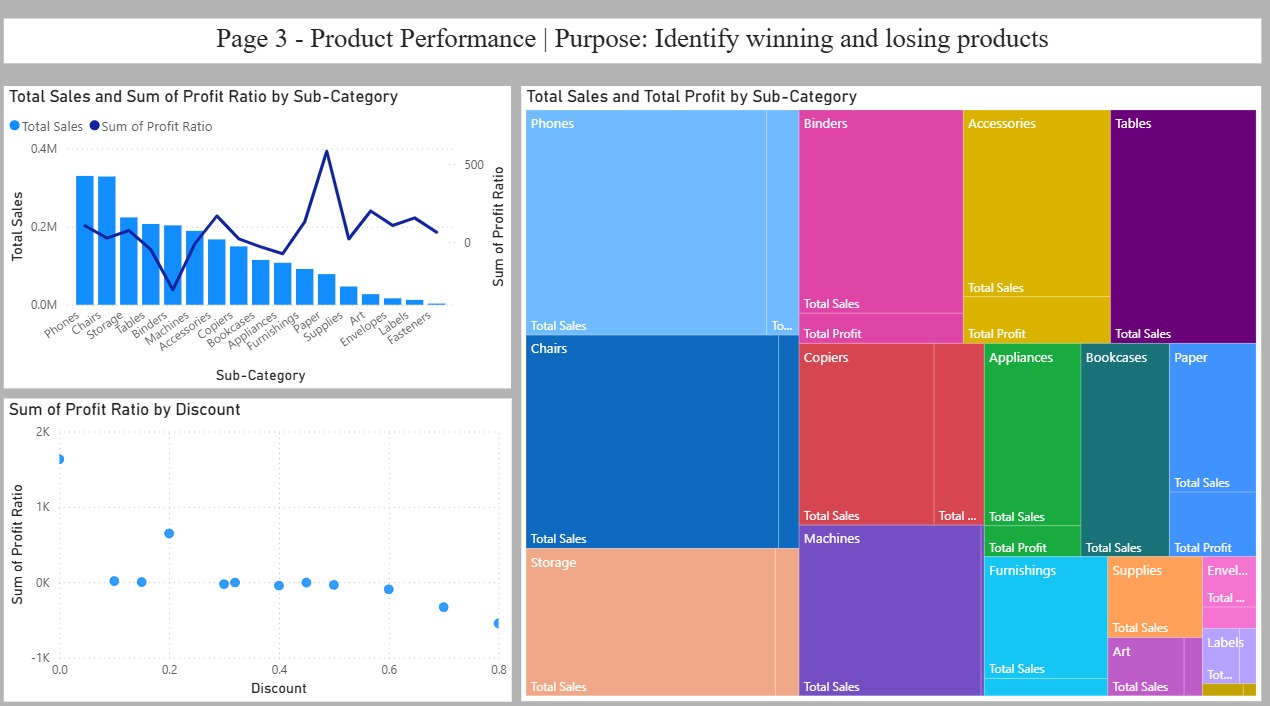

Layout of this report page (visuals, bound fields, positions):
{"tool":"powerbi","page":{"name":"Page 3","canvas":[1280,720],"ordinal":2},"visuals":[{"type":"lineStackedColumnComboChart","fields":{"Category":["SampleSuperstore.Sub-Category"],"Y":["SampleSuperstore.Total Sales"],"Y2":["Sum(SampleSuperstore.Profit Ratio)"]},"box":[9.2,95,507.5,302.5],"z":0},{"type":"scatterChart","fields":{"X":["SampleSuperstore.Discount"],"Y":["Sum(SampleSuperstore.Profit Ratio)"]},"box":[9,408,508,303],"z":1000},{"type":"treemap","fields":{"Values":["SampleSuperstore.Total Sales","SampleSuperstore.Total Profit"],"Group":["SampleSuperstore.Sub-Category"]},"box":[526.7,95,740,615],"z":2000},{"type":"textbox","box":[8.8,27.5,1257.5,45],"z":3000}]}

Visuals, with their boxes in screenshot pixels (x1, y1, x2, y2), scaled from the page's 1280x720 canvas onto the 1270x706 screenshot:
lineStackedColumnComboChart - SampleSuperstore.Sub-Category x SampleSuperstore.Total Sales: crop(9, 93, 513, 390)
scatterChart - SampleSuperstore.Discount x Sum(SampleSuperstore.Profit Ratio): crop(9, 400, 513, 697)
treemap - SampleSuperstore.Total Sales x SampleSuperstore.Total Profit: crop(523, 93, 1257, 696)
textbox: crop(9, 27, 1256, 71)
